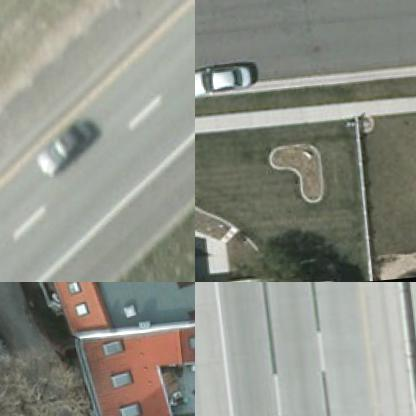car: (23, 115, 94, 182), (195, 54, 252, 99)
